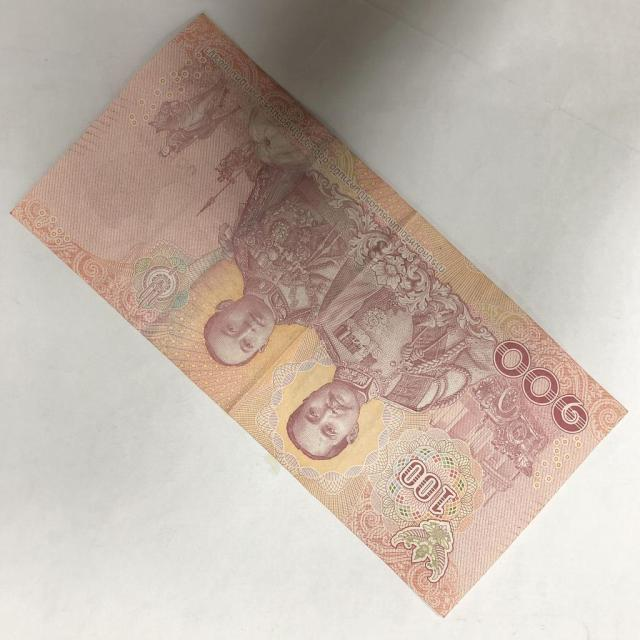THAI100: (12, 14, 627, 620)
